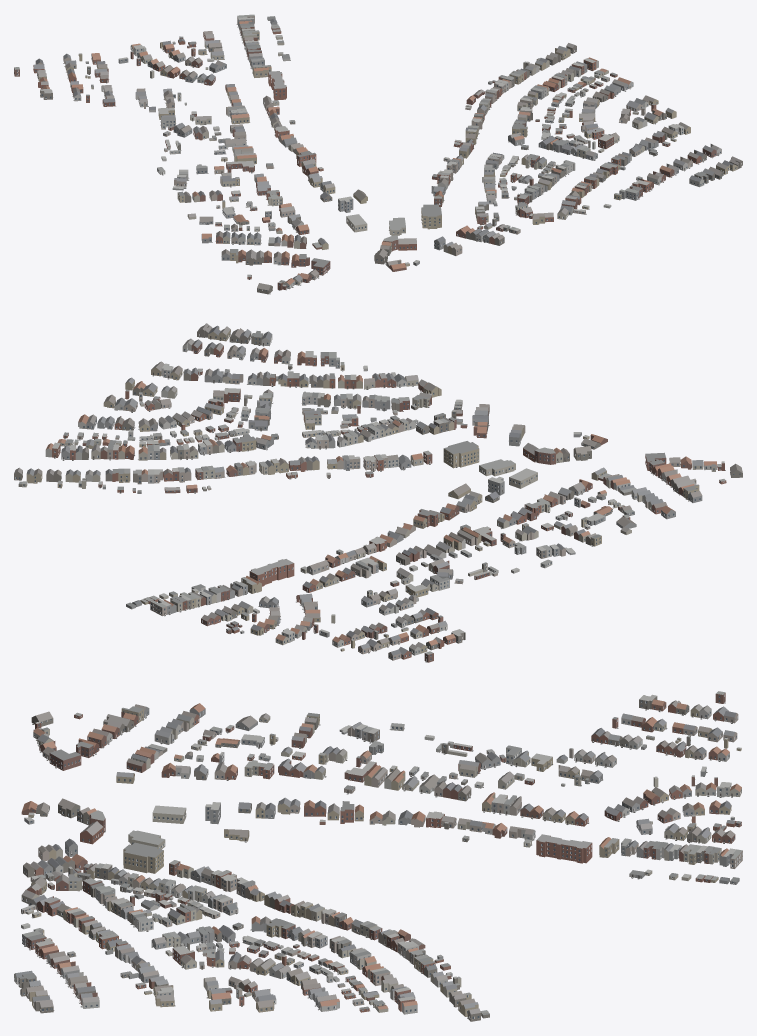
The picture shows the model from 3 angles, top to bottom: view 1: azimuth 30°, elevation 25°; view 2: azimuth 150°, elevation 25°; view 3: azimuth 270°, elevation 25°; orthographic projection. The views are drawn at different scales.
Parts seen in each view (by area): view 1: way/402535347; view 2: way/402535347, way/402539015; view 3: way/402539015, way/402535347, way/402537752.
Boxes of the visible parts, bbox=[...] form: way/402535347: bbox=[421, 204, 441, 229]; way/402535347: bbox=[443, 441, 479, 468]; way/402539015: bbox=[249, 559, 294, 586]; way/402539015: bbox=[536, 834, 592, 863]; way/402535347: bbox=[123, 842, 163, 873]; way/402537752: bbox=[152, 805, 186, 823].
Size of the model in its own units: 509 by 39.46 by 510.
